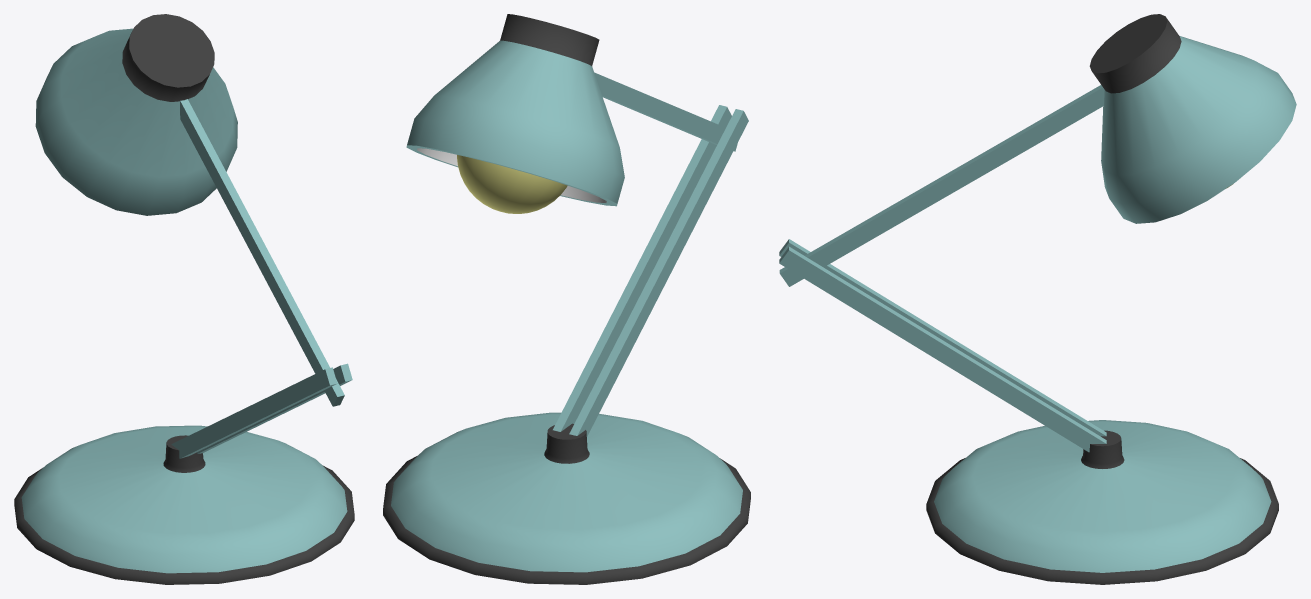
Rendered from Desklamp.fbx.
The picture shows the model from 3 angles, left to right: view 1: azimuth 30°, elevation 25°; view 2: azimuth 150°, elevation 25°; view 3: azimuth 270°, elevation 25°; orthographic projection. The views are drawn at different scales.
Parts seen in each view (by area): view 1: Base, LampShade, UpperBeam, LowerBeam; view 2: Base, LampShade, LowerBeam, LampBulb, UpperBeam; view 3: Base, LampShade, LowerBeam, UpperBeam.
Part boxes in pixels (left/top/right/bottom): Base: left=14, top=425, right=354, bottom=584; LampShade: left=35, top=14, right=237, bottom=215; UpperBeam: left=180, top=99, right=344, bottom=406; LowerBeam: left=171, top=363, right=352, bottom=458; Base: left=383, top=412, right=750, bottom=584; LampShade: left=406, top=14, right=624, bottom=206; LowerBeam: left=553, top=105, right=748, bottom=436; LampBulb: left=457, top=155, right=567, bottom=213; UpperBeam: left=594, top=72, right=737, bottom=151; Base: left=926, top=420, right=1278, bottom=584; LampShade: left=1089, top=14, right=1296, bottom=223; LowerBeam: left=779, top=239, right=1106, bottom=452; UpperBeam: left=779, top=85, right=1104, bottom=286.
Bounding box in the file's own units: 16.71 × 25.6 × 24.53.
